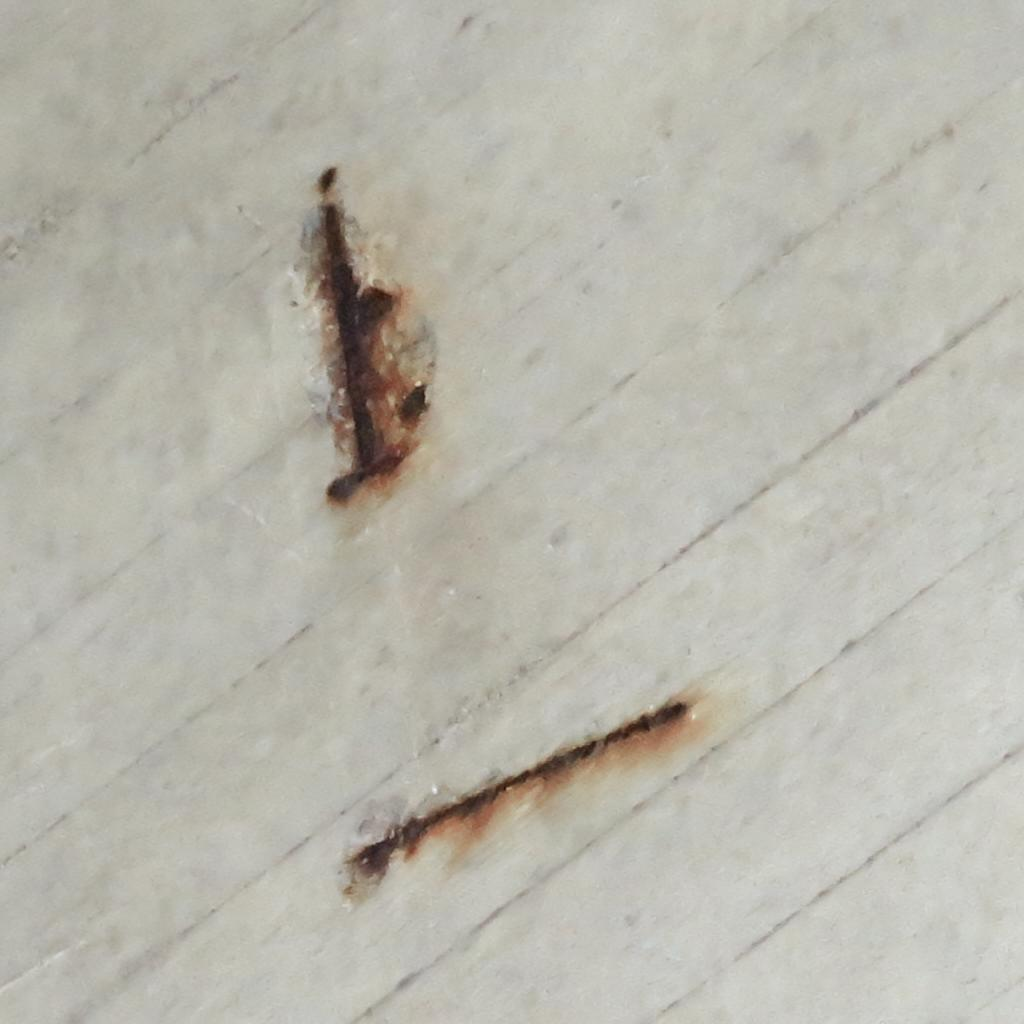exposed_rebar: (344, 702, 688, 897), (318, 168, 408, 500), (398, 384, 428, 425)
spalling: (344, 703, 688, 899), (302, 168, 434, 502)
